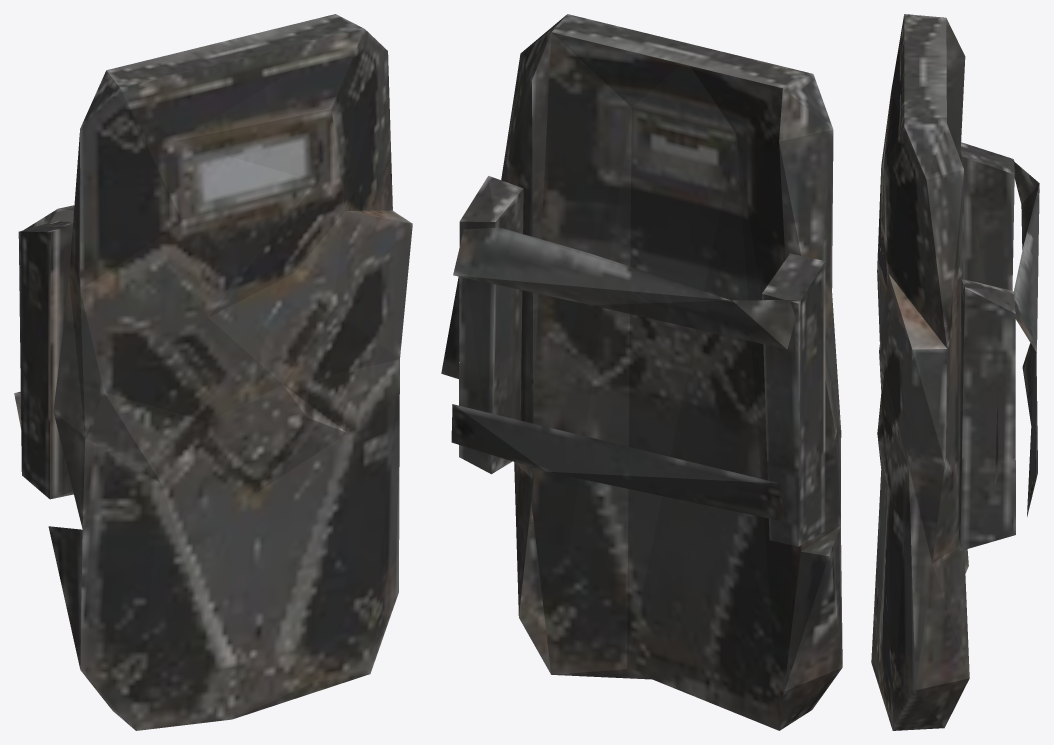
The model's file is prop.shield_guard.lod.glb.
3 renders of one model, left to right at view 1: azimuth 30°, elevation 25°; view 2: azimuth 150°, elevation 25°; view 3: azimuth 270°, elevation 25°, orthographic. The views are drawn at different scales.
Visible parts, largest first — view 1: body; view 2: body; view 3: body.
Part boxes in pixels (<box>): body: <box>14,14,412,730</box>; body: <box>441,14,842,730</box>; body: <box>871,14,1039,730</box>.
Size of the model in its own units: 0.2989 by 0.5 by 0.126.
1 material, 1 textured.
